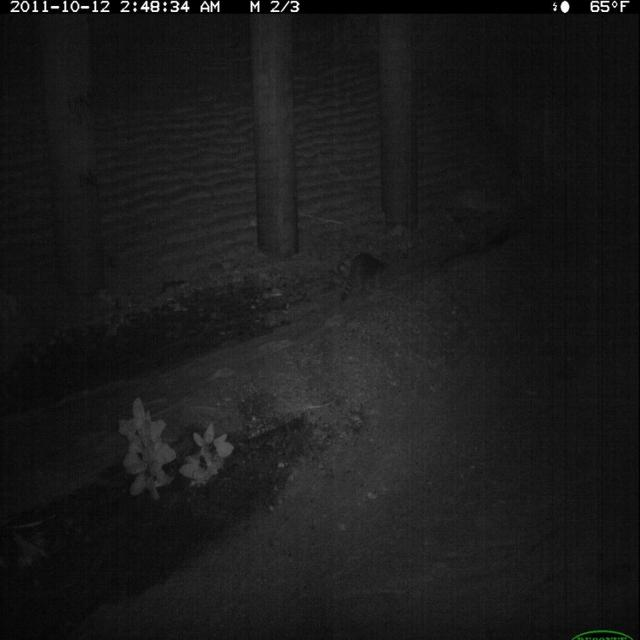raccoon: (337, 247, 391, 307)
